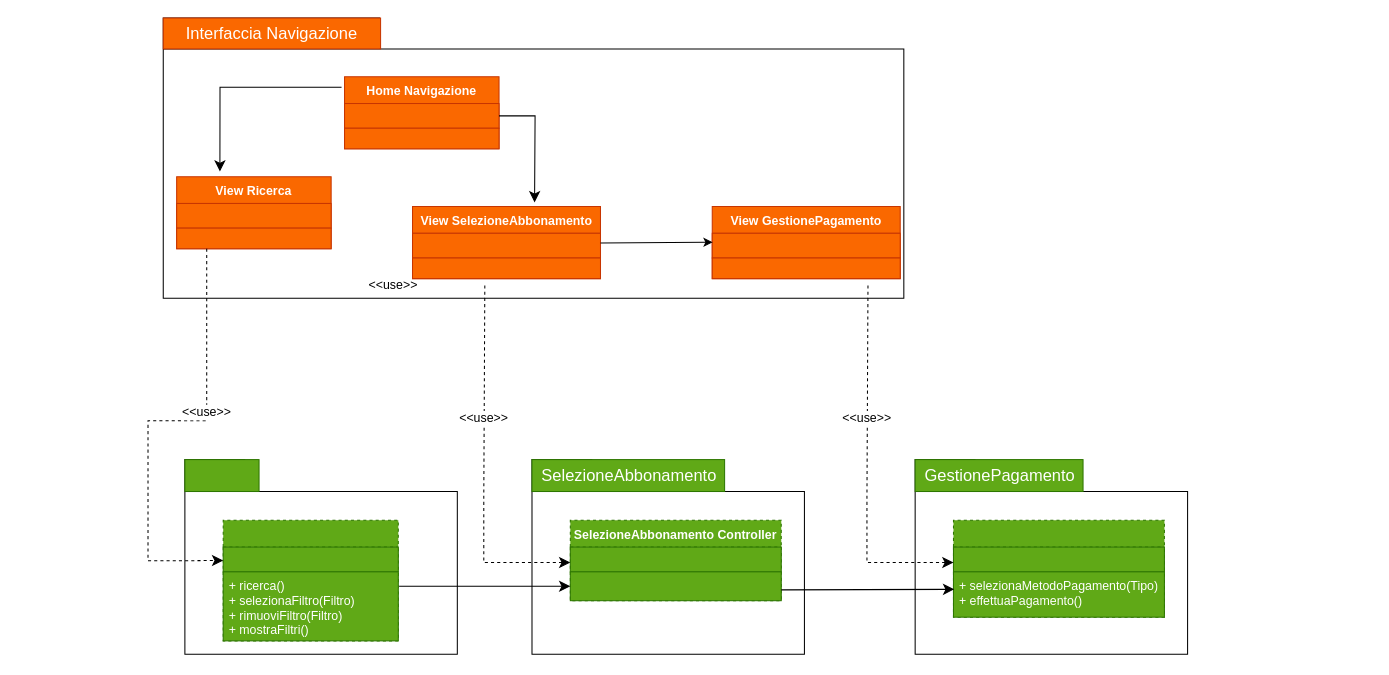
The diagram is 1389 pixels wide and 675 high, and some of its shapes have lost their labels. Each missing label, with the box of its shape:
+ seleziona(Abbonamento): (569, 571, 781, 601)
GestionePagamento Controller: (952, 519, 1164, 617)
Ricerca: (184, 459, 259, 492)
Ricerca Controller: (222, 519, 398, 641)
